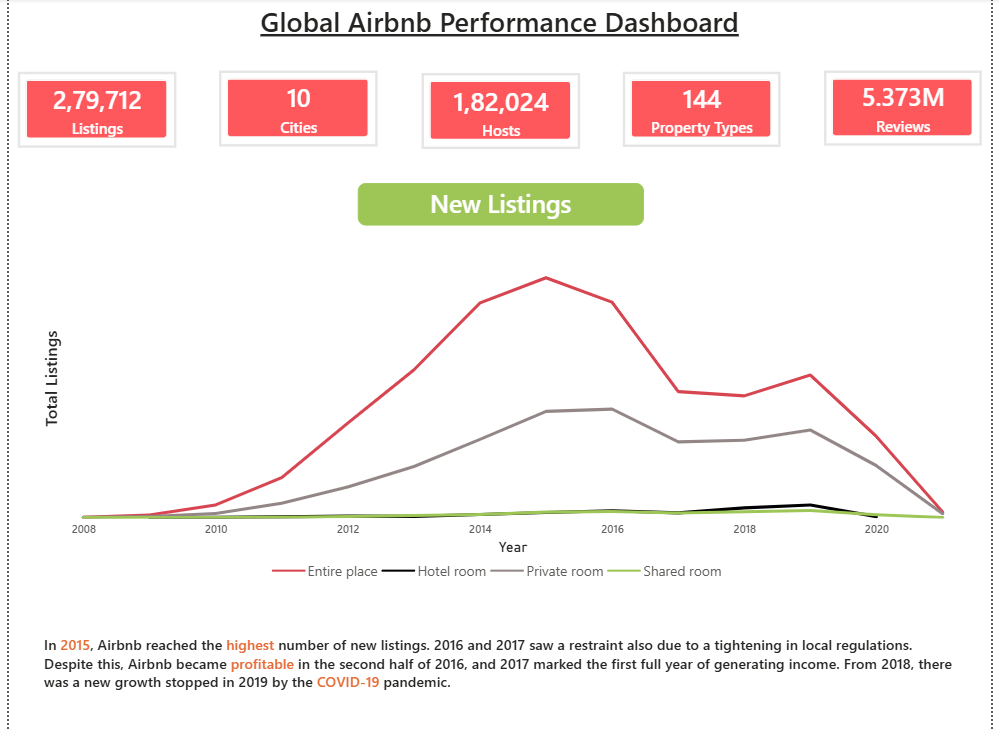

The page's visual inventory and layout, read from the dashboard file:
{"tool":"powerbi","page":{"name":"Overview","canvas":[960,720],"ordinal":0},"visuals":[{"type":"textbox","box":[238.5,0,483,51.4],"z":0},{"type":"cardVisual","fields":{"Data":["CountNonNull(Listings.listing_id)"]},"box":[8.6,72.1,155.3,74.6],"z":1000},{"type":"cardVisual","fields":{"Data":["Count(Listings.city)"]},"box":[206,70.9,155.3,74.6],"z":2000},{"type":"cardVisual","fields":{"Data":["Count(Listings.host_id)"]},"box":[403.5,73.4,155.3,74.6],"z":3000},{"type":"cardVisual","fields":{"Data":["Count(Listings.property_type)"]},"box":[601,72.1,154.1,73.4],"z":4000},{"type":"cardVisual","fields":{"Data":["Count(Reviews.review_id)"]},"box":[797.3,70.9,154.1,73.4],"z":5000},{"type":"lineChart","fields":{"Category":["Listings.host_since.Variation.Date Hierarchy.Year"],"Series":["Listings.room_type"],"Y":["CountNonNull(Listings.listing_id)"]},"box":[29.4,222.6,901.2,357.1],"z":6000},{"type":"textbox","box":[341.2,181,280,41.6],"z":7000},{"type":"textbox","box":[29.3,617.5,901.2,102.7],"z":8000}]}

Visuals, with their boxes in screenshot pixels (x1, y1, x2, y2), scaled from the page's 960x720 canvas onto the 999x730 screenshot:
textbox: bbox=(248, 0, 751, 52)
cardVisual - CountNonNull(Listings.listing_id): bbox=(9, 73, 171, 149)
cardVisual - Count(Listings.city): bbox=(214, 72, 376, 148)
cardVisual - Count(Listings.host_id): bbox=(420, 74, 582, 150)
cardVisual - Count(Listings.property_type): bbox=(625, 73, 786, 148)
cardVisual - Count(Reviews.review_id): bbox=(830, 72, 990, 146)
lineChart - Listings.host_since.Variation.Date Hierarchy.Year x Listings.room_type: bbox=(31, 226, 968, 588)
textbox: bbox=(355, 184, 646, 226)
textbox: bbox=(30, 626, 968, 729)
